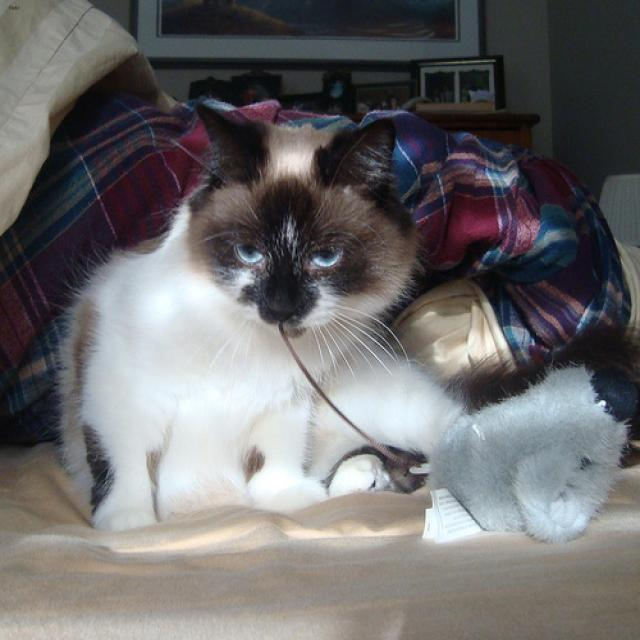Ragdoll: (194, 101, 395, 339)
